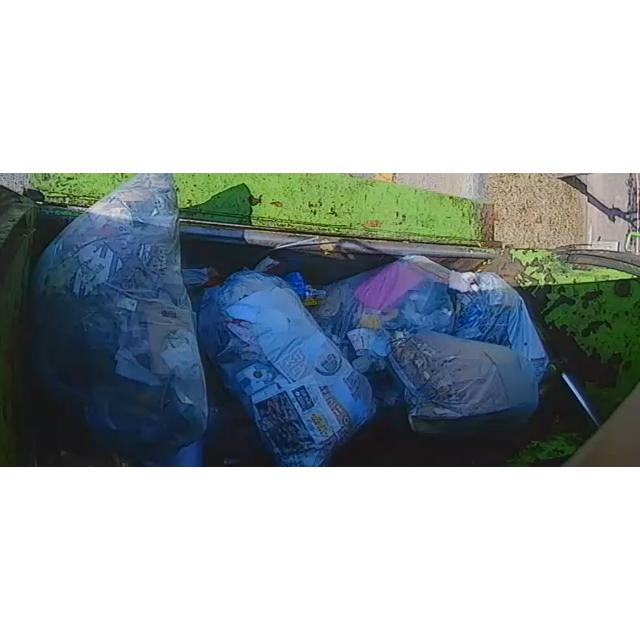other_trashbag: (31, 173, 208, 462), (199, 270, 374, 467), (311, 256, 478, 406), (389, 332, 539, 434), (448, 272, 548, 379)
